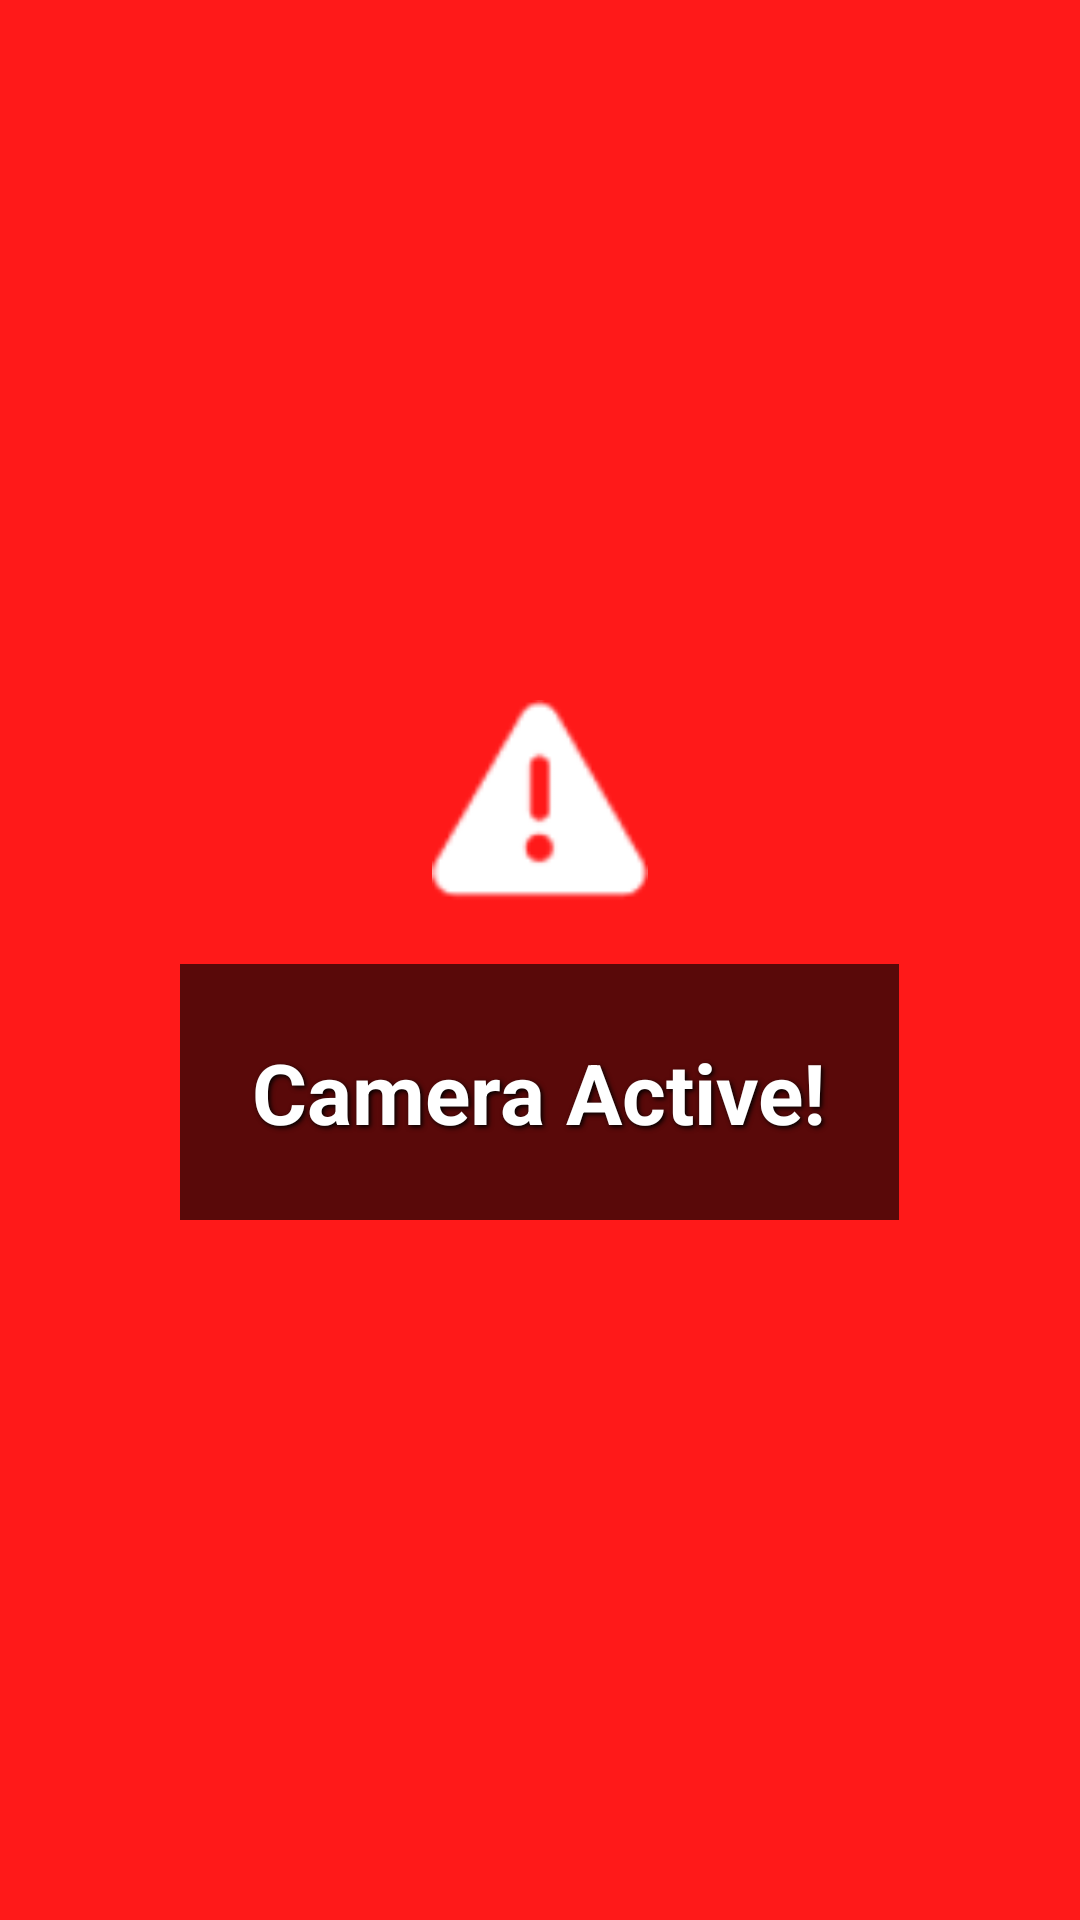

Icon click points for this 1080*1920 phone screenshot, format (x,y):
alert: (540,798)
